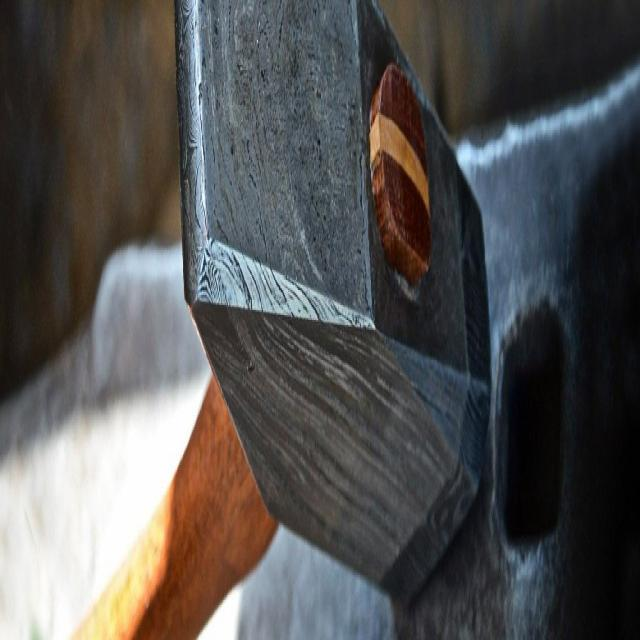hammer: (70, 0, 492, 640)
